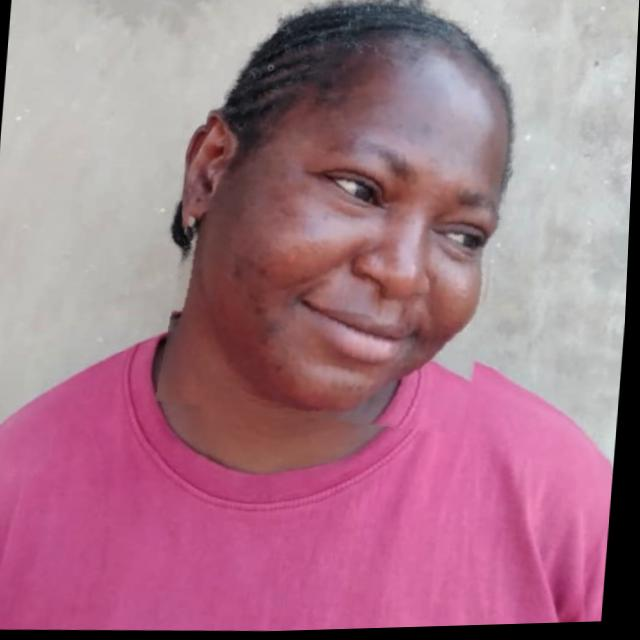happy: (167, 0, 529, 438)
